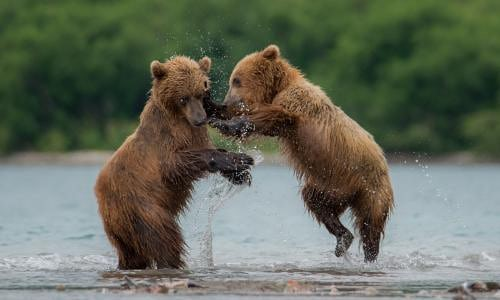bear: (145, 53, 217, 126), (222, 40, 288, 112)
